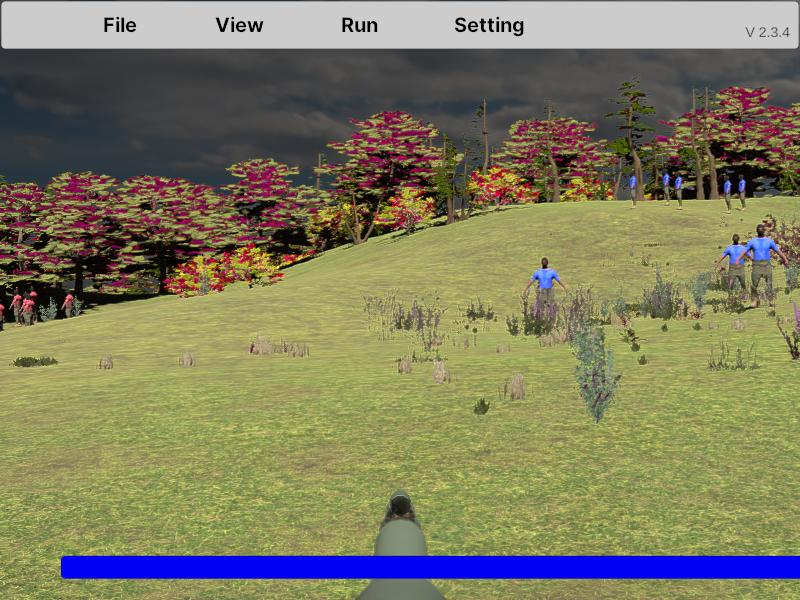Human: (737, 224, 786, 308), (524, 256, 567, 339), (523, 256, 567, 337), (716, 233, 758, 310)
